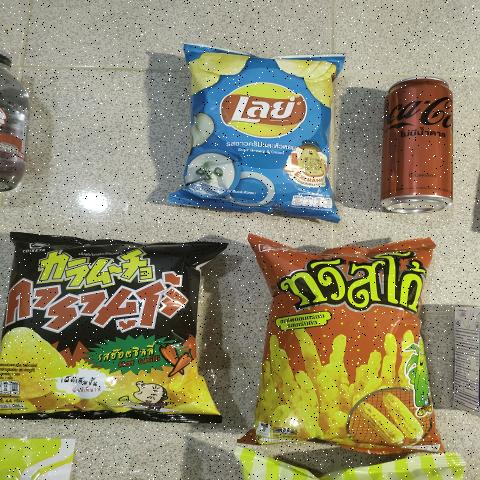coke_red: (367, 71, 467, 220)
karamujo: (10, 235, 197, 416)
lay_blue: (182, 57, 339, 195)
twisco: (272, 247, 424, 439)
